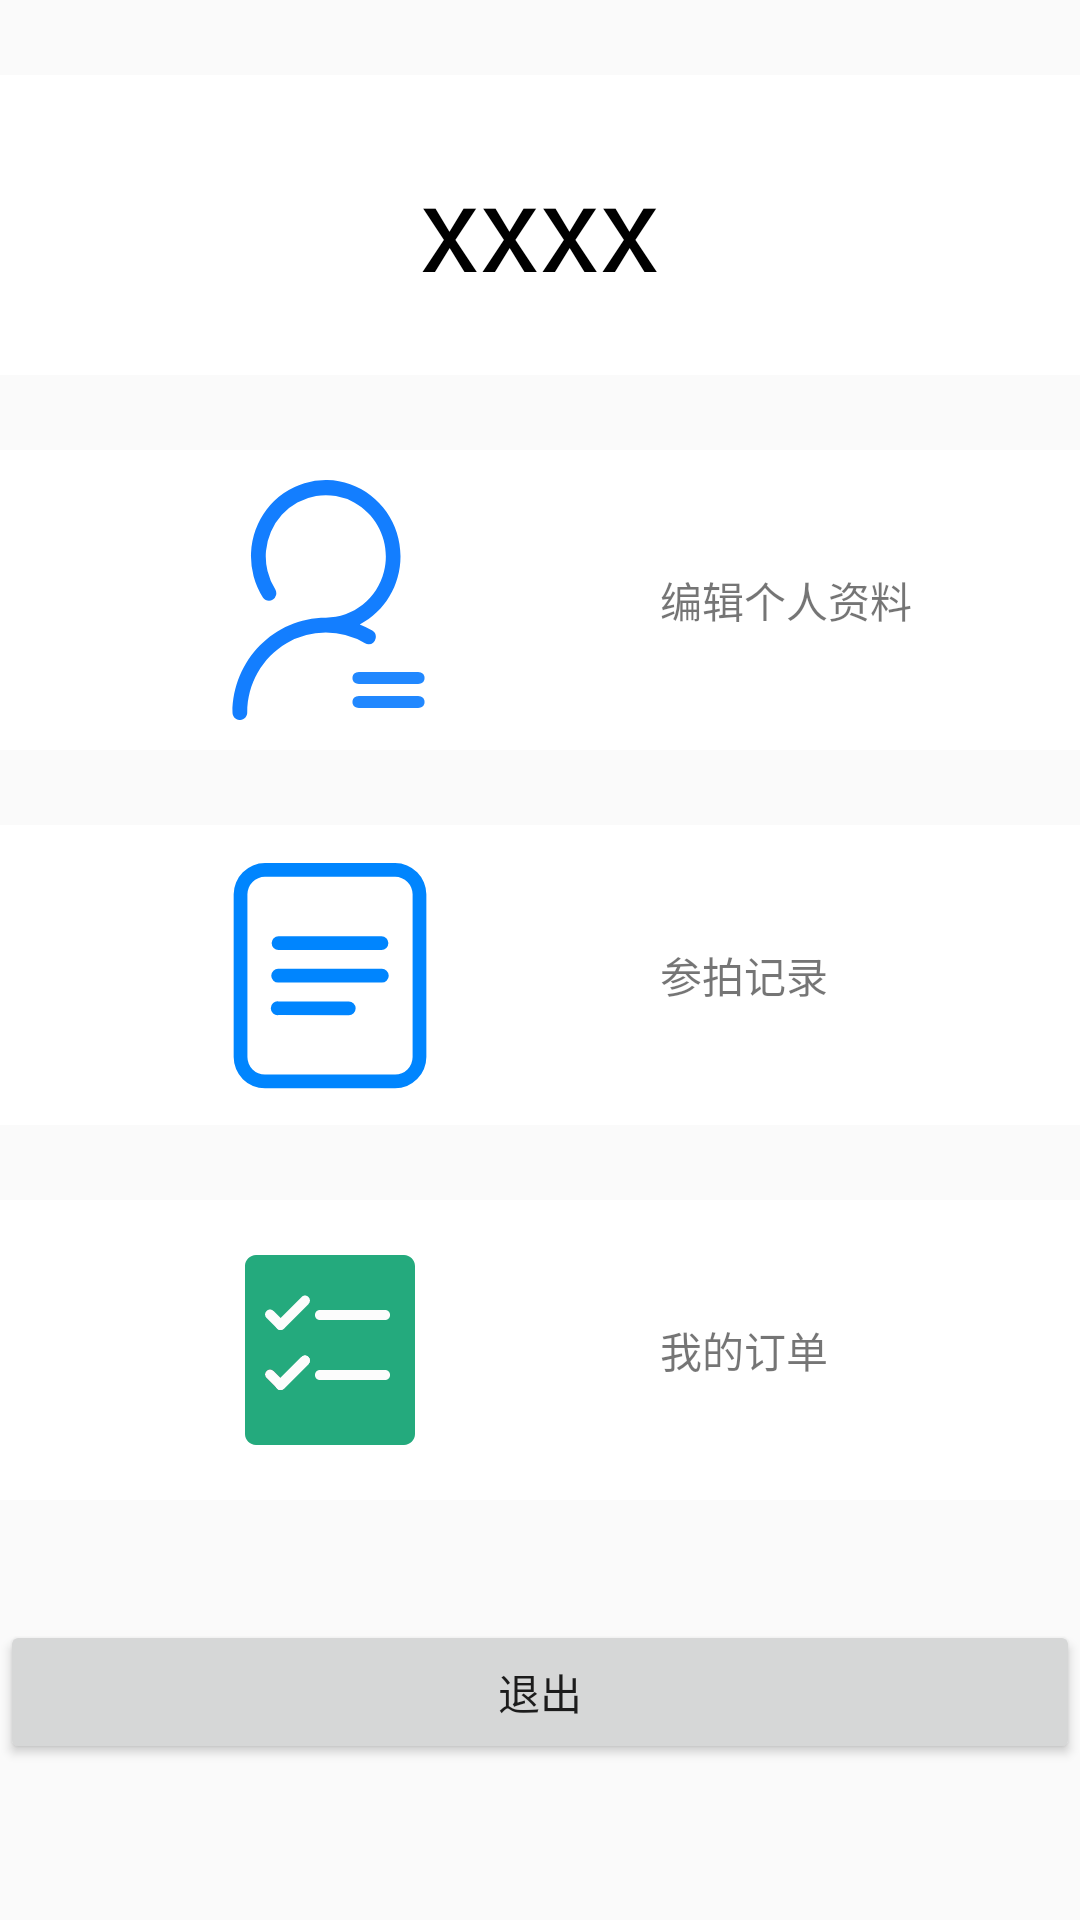

Named icons in this screenshot (1080 × 1920) and their centers, [x,y]:
order: [330,976], [330,1350]
user info: [328,600]
